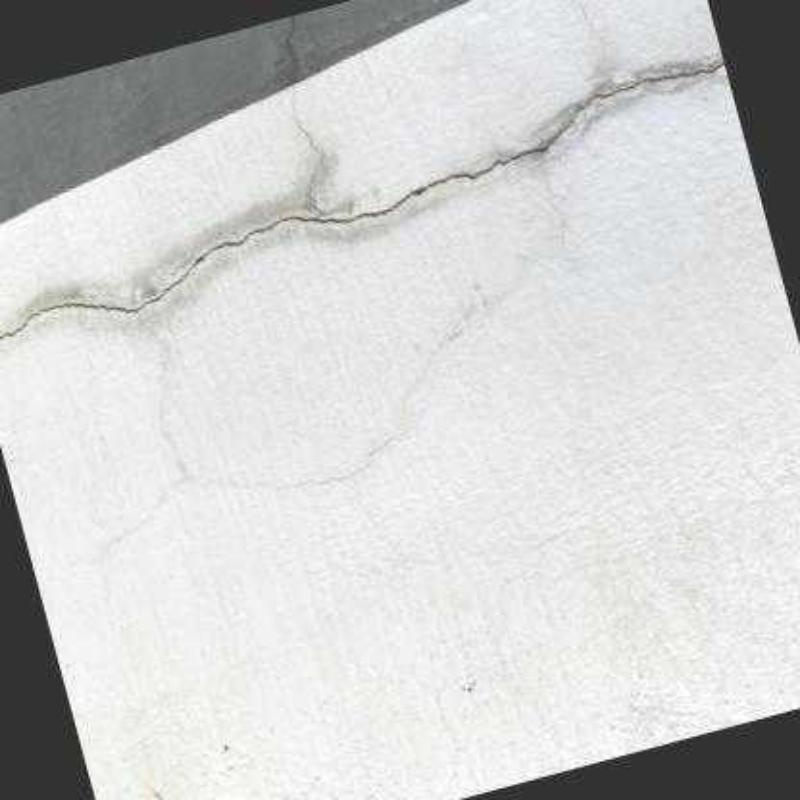pothole: (0, 61, 725, 338), (137, 304, 487, 492), (287, 17, 327, 219), (579, 0, 604, 94)
